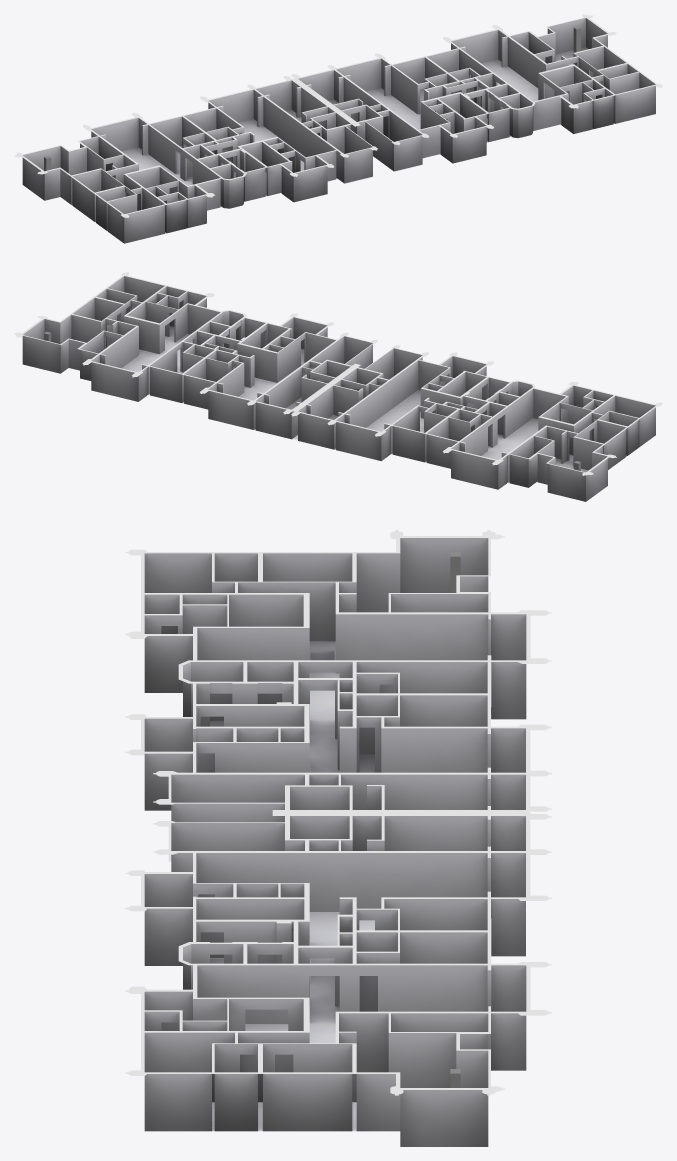
File: BLD-2-Interior-16F.FBX
3 views of the same model, one above another, from view 1: azimuth 30°, elevation 25°; view 2: azimuth 150°, elevation 25°; view 3: azimuth 270°, elevation 25° (orthographic). The views are drawn at different scales.
Visible parts, largest first — view 1: BLD-2-Regular-Floor-016; view 2: BLD-2-Regular-Floor-016; view 3: BLD-2-Regular-Floor-016.
Part boxes in pixels (<box>): BLD-2-Regular-Floor-016: <box>14,14,662,243</box>; BLD-2-Regular-Floor-016: <box>14,272,662,501</box>; BLD-2-Regular-Floor-016: <box>125,530,551,1146</box>.
Bounding box in the file's own units: 43.78 × 2.13 × 13.95.
